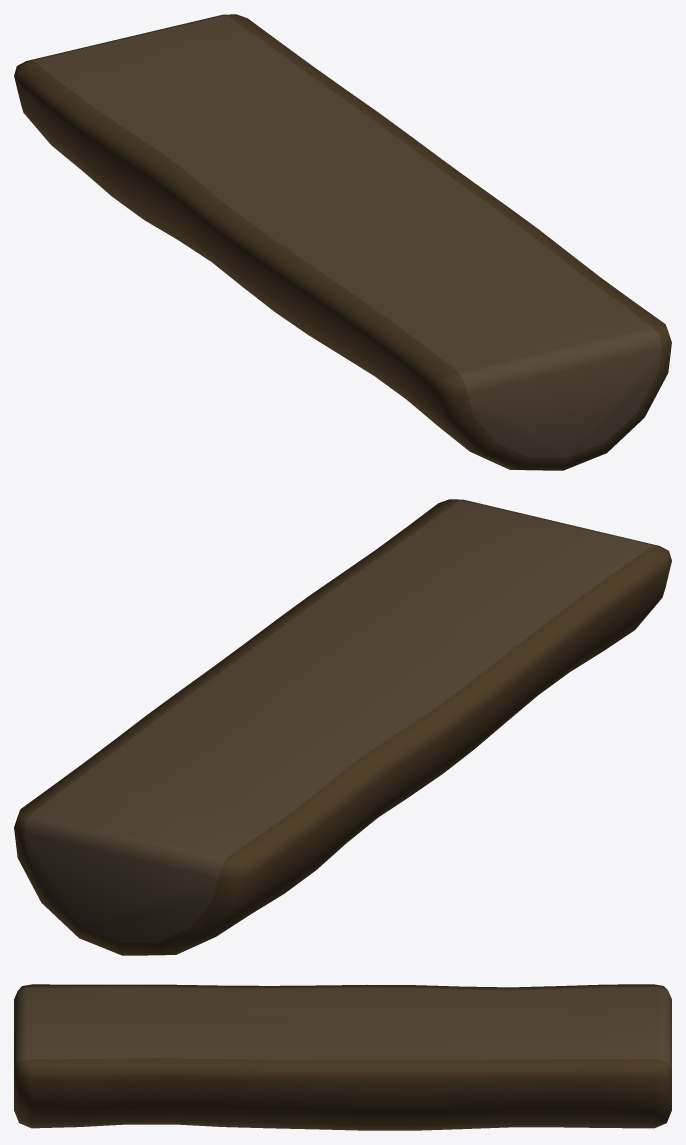
The model's file is firewood-2.fbx.
3 views of the same model, one above another, from view 1: azimuth 30°, elevation 25°; view 2: azimuth 150°, elevation 25°; view 3: azimuth 270°, elevation 25° (orthographic). The views are drawn at different scales.
Visible parts, largest first — view 1: Timber; view 2: Timber; view 3: Timber.
Boxes of the visible parts, x1,y1,x2,y2 form: Timber: (14, 14, 671, 470); Timber: (14, 499, 671, 955); Timber: (14, 984, 671, 1130).
Size of the model in its own units: 15.49 by 7.87 by 50.
